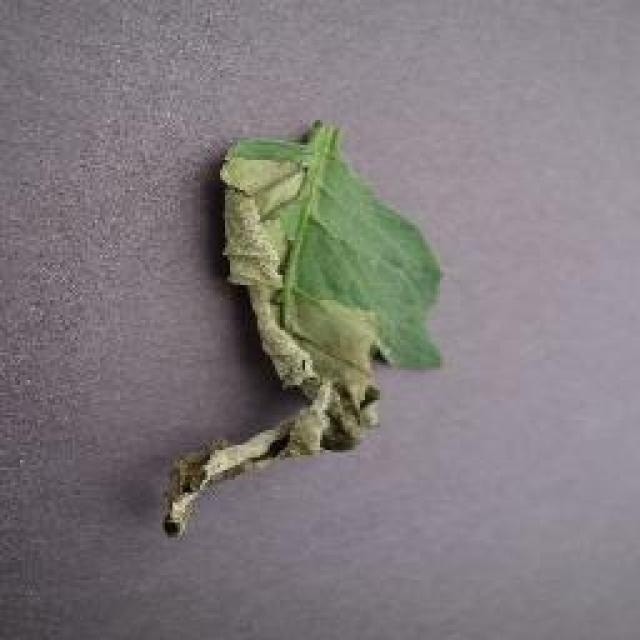Tomato___Late_blight: (161, 113, 449, 541)
